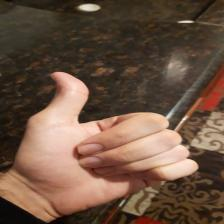five: (17, 70, 201, 190)
